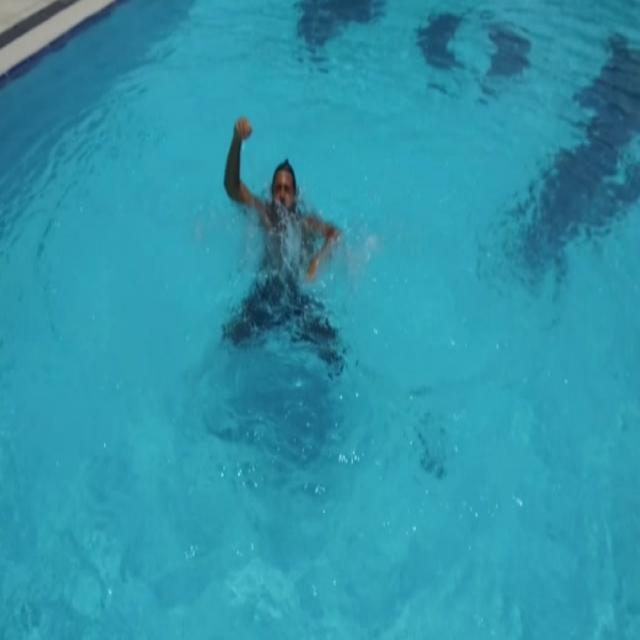Drowning: (220, 114, 345, 372)
